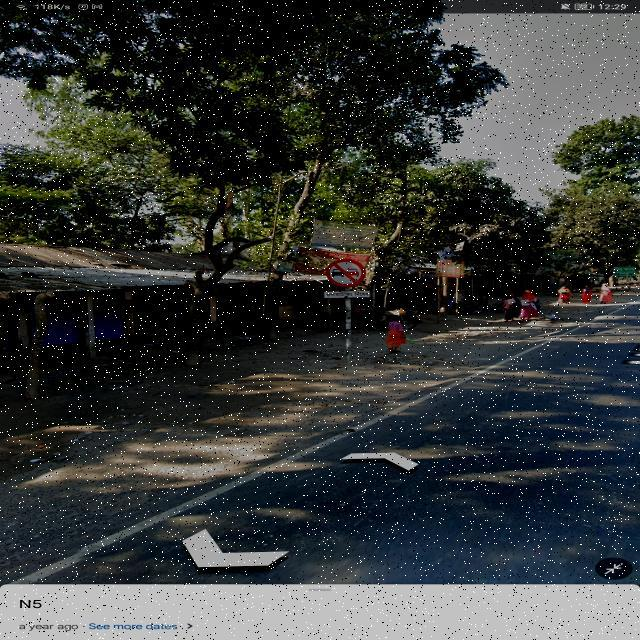Don-t-Overtracking: (315, 257, 379, 313)
